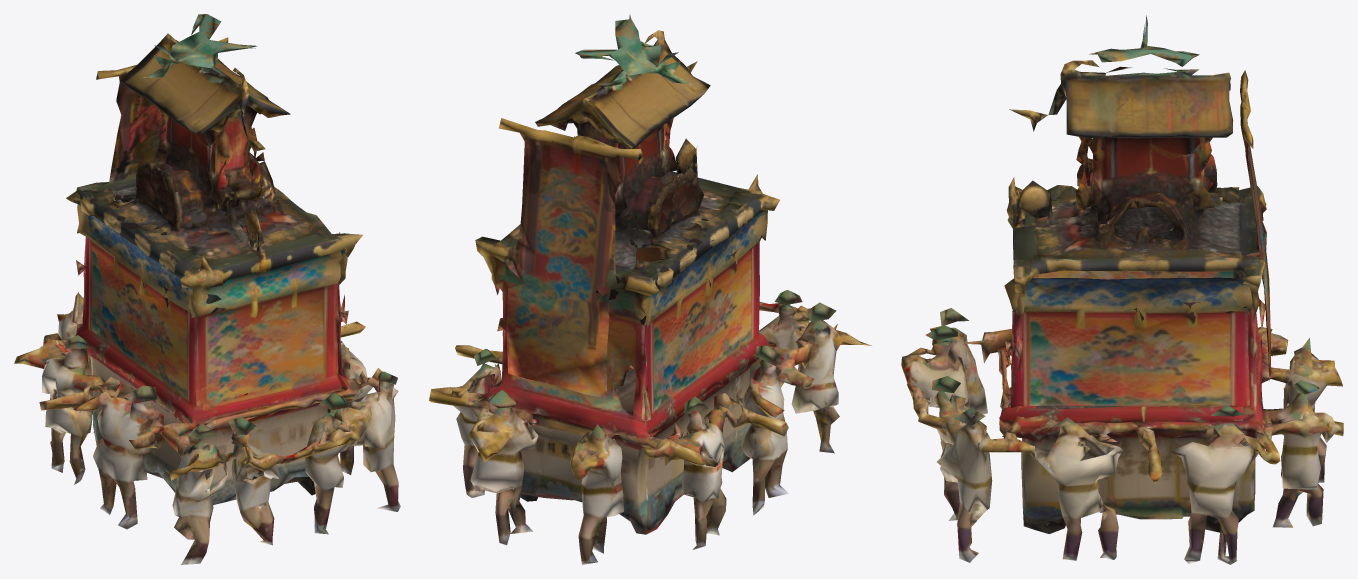
The model's file is 蟷螂山.glb.
3 renders of one model, left to right at view 1: azimuth 30°, elevation 25°; view 2: azimuth 150°, elevation 25°; view 3: azimuth 270°, elevation 25°, orthographic. The views are drawn at different scales.
Visible parts, largest first — view 1: Mesh1.003; view 2: Mesh1.003; view 3: Mesh1.003.
Part boxes in pixels (bbox=[...]): Mesh1.003: bbox=[14, 14, 400, 564]; Mesh1.003: bbox=[429, 15, 871, 564]; Mesh1.003: bbox=[901, 15, 1343, 564].
Bounding box in the file's own units: 3.78 × 4.95 × 4.26.
Materials: 1 (1 with a texture image).
